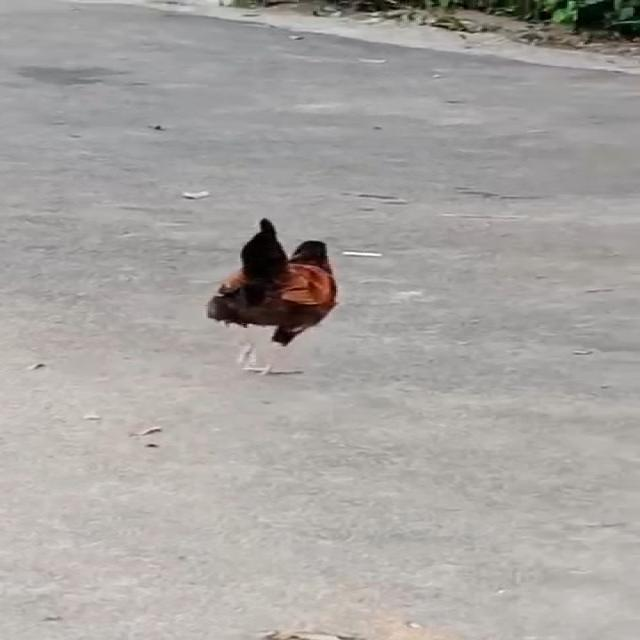walking: (213, 186, 352, 376)
